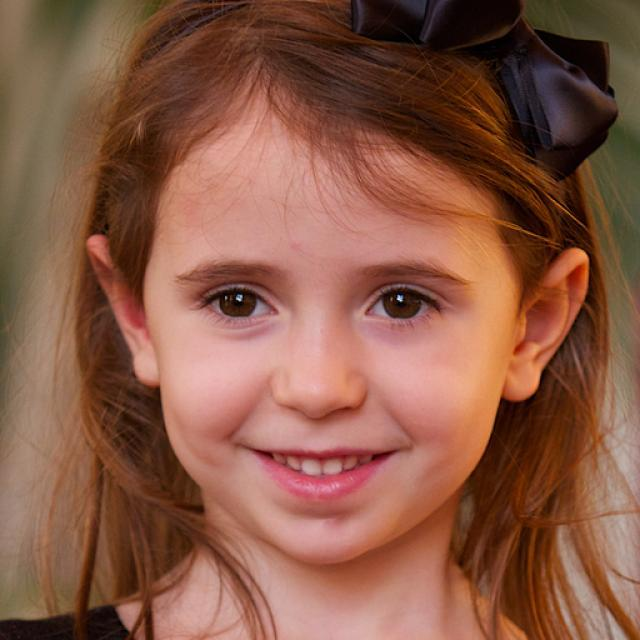happy: (149, 122, 510, 564)
